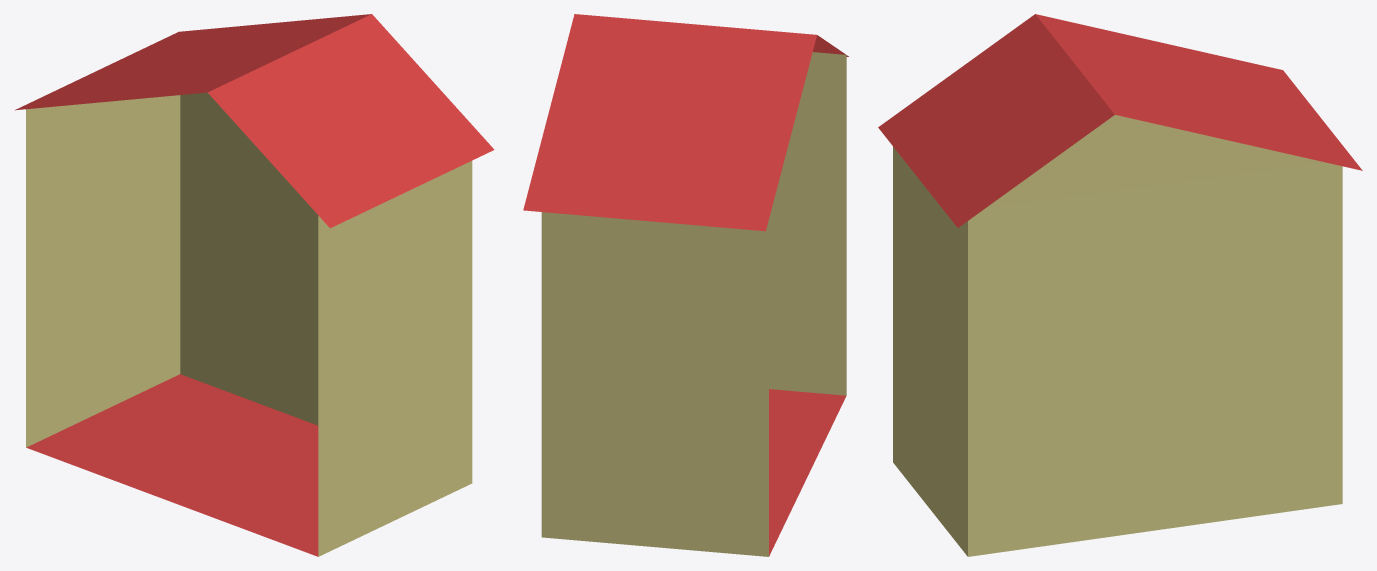
3 views of the same model, side by side, from view 1: azimuth 30°, elevation 25°; view 2: azimuth 150°, elevation 25°; view 3: azimuth 270°, elevation 25° (orthographic).
Size of the model in its own units: 5.87 by 7.61 by 7.42.
